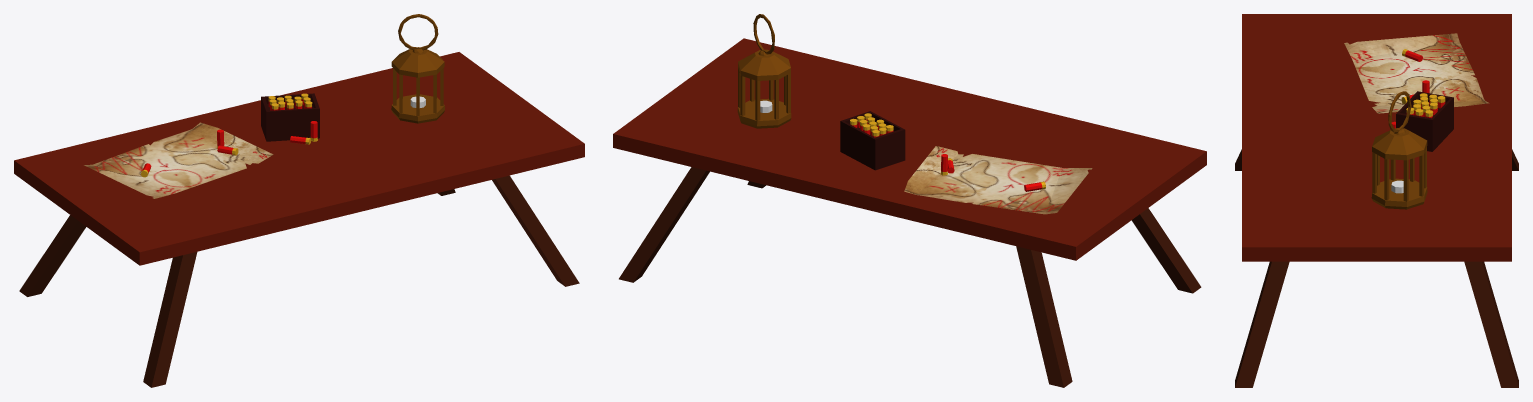
The model's file is table.fbx.
3 views of the same model, side by side, from view 1: azimuth 30°, elevation 25°; view 2: azimuth 150°, elevation 25°; view 3: azimuth 270°, elevation 25° (orthographic). The views are drawn at different scales.
Visible parts, largest first — view 1: Table, map, LanternBase, shellbox, shitgunshells; view 2: Table, map, LanternBase, shellbox; view 3: Table, map, LanternBase, shellbox, LanternHandle, shitgunshells.
Boxes of the visible parts, <box> form: Table: <box>14,52,584,387</box>; map: <box>84,122,273,198</box>; LanternBase: <box>391,47,444,123</box>; shellbox: <box>261,93,319,141</box>; shitgunshells: <box>141,121,317,177</box>; Table: <box>613,38,1206,387</box>; map: <box>904,146,1092,214</box>; LanternBase: <box>737,49,791,128</box>; shellbox: <box>840,111,905,170</box>; Table: <box>1235,14,1518,387</box>; map: <box>1344,33,1489,113</box>; LanternBase: <box>1371,128,1427,209</box>; shellbox: <box>1396,91,1453,151</box>; LanternHandle: <box>1388,91,1411,133</box>; shitgunshells: <box>1391,49,1429,128</box>.
Size of the model in its own units: 409 by 205 by 210.
